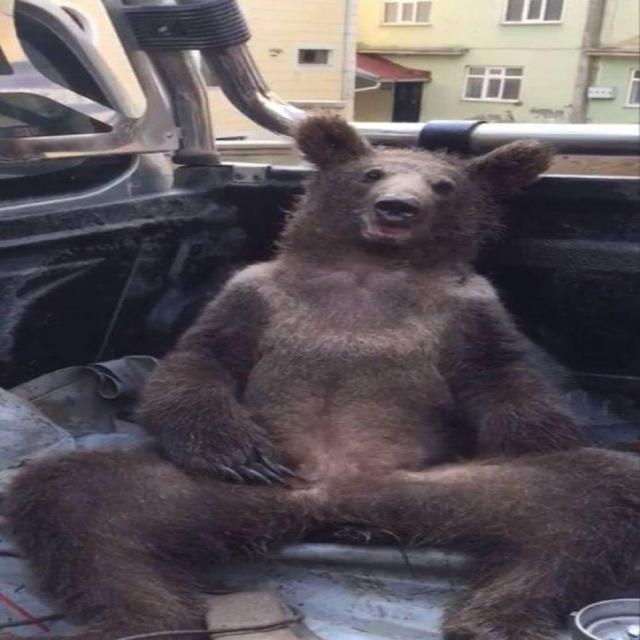Bear: (0, 117, 640, 640)
